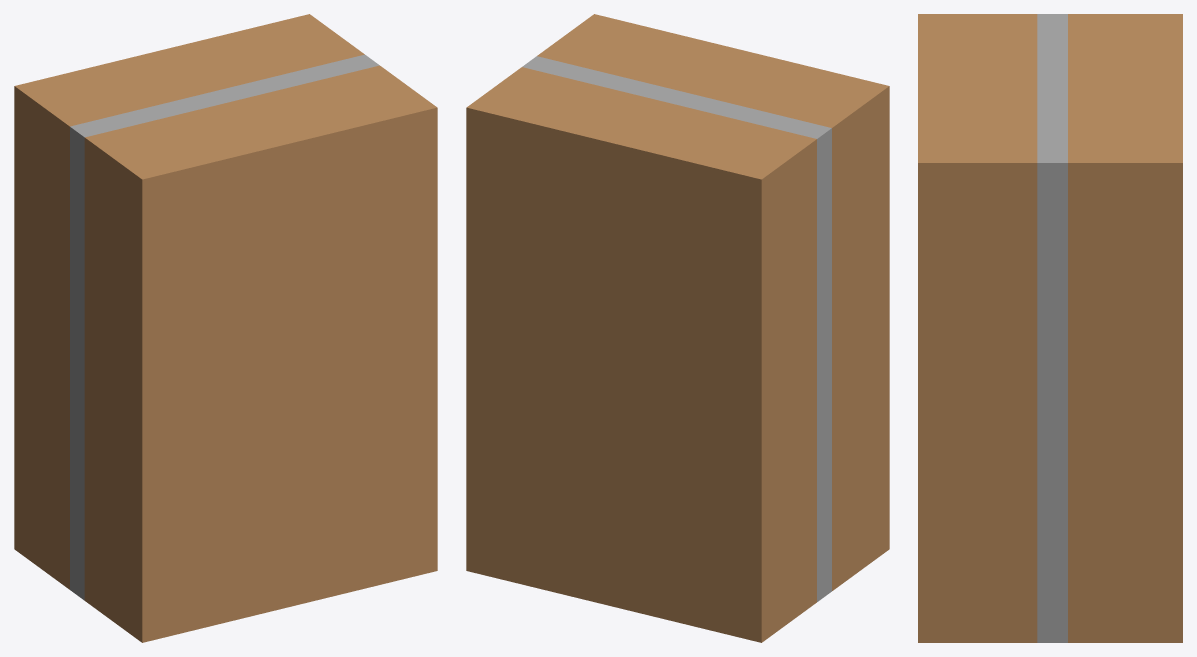
File: Carbord Box Tall.glb
3 renders of one model, left to right at view 1: azimuth 30°, elevation 25°; view 2: azimuth 150°, elevation 25°; view 3: azimuth 270°, elevation 25°, orthographic. The views are drawn at different scales.
Visible parts, largest first — view 1: Cube; view 2: Cube; view 3: Cube.
Boxes of the visible parts, bbox=[...] form: Cube: bbox=[14, 14, 437, 642]; Cube: bbox=[466, 14, 889, 642]; Cube: bbox=[918, 14, 1182, 642].
Size of the model in its own units: 0.3 by 0.45 by 0.225.
